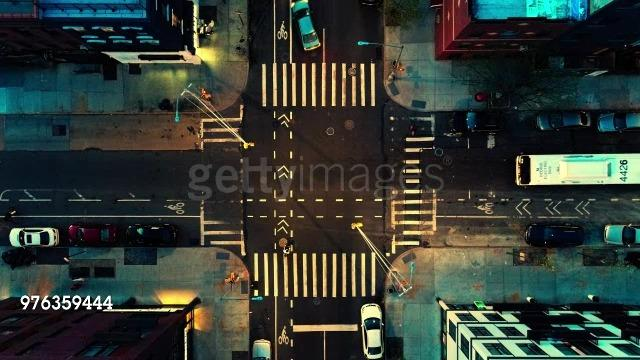car: (351, 299, 388, 360), (286, 0, 326, 56), (532, 103, 596, 135), (522, 222, 590, 248), (444, 110, 510, 136), (124, 224, 190, 248), (66, 222, 120, 248), (596, 109, 640, 136), (8, 227, 62, 247), (602, 222, 640, 250), (252, 336, 274, 360)
truck: (514, 147, 640, 191)
